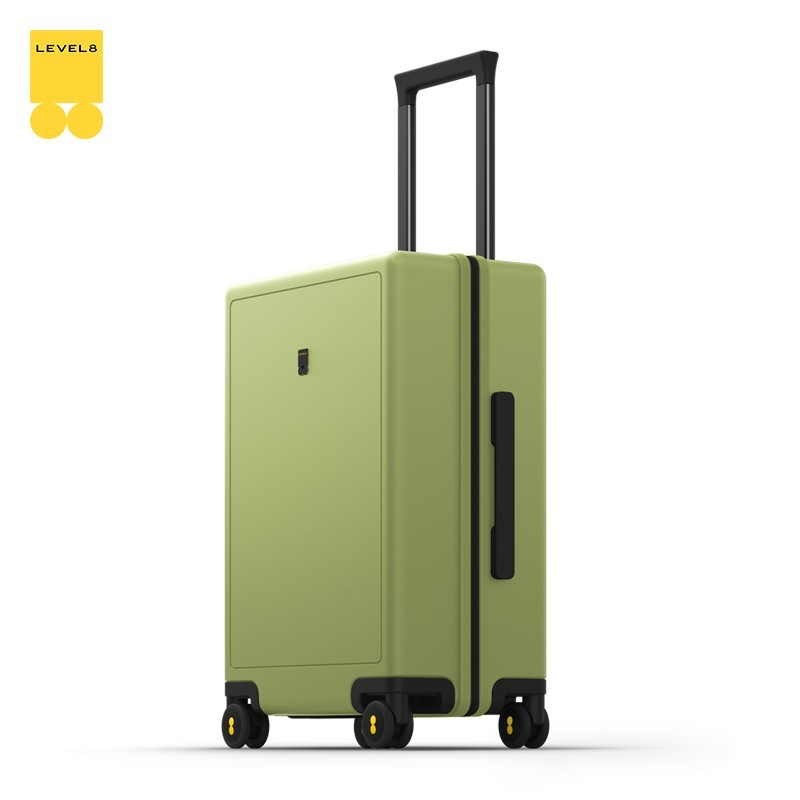box: (225, 251, 547, 718)
handle: (491, 391, 517, 580)
wheel: (498, 702, 550, 749), (363, 701, 414, 748), (222, 704, 270, 749)
